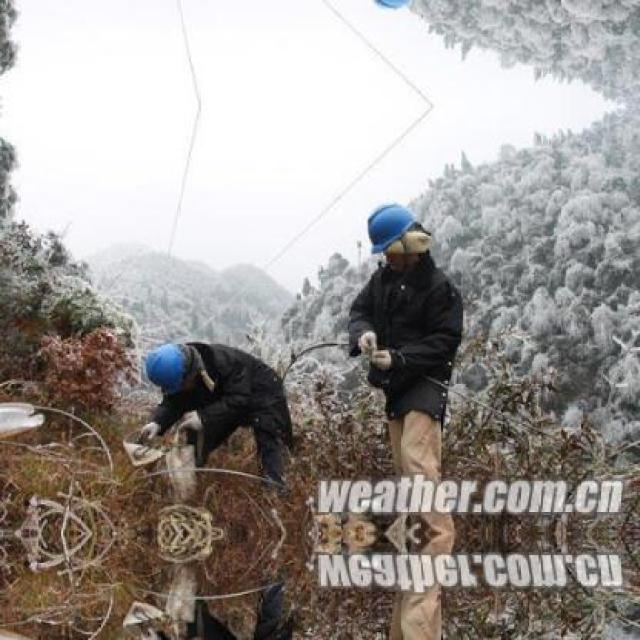helmet: (357, 192, 423, 254), (129, 336, 185, 401)
